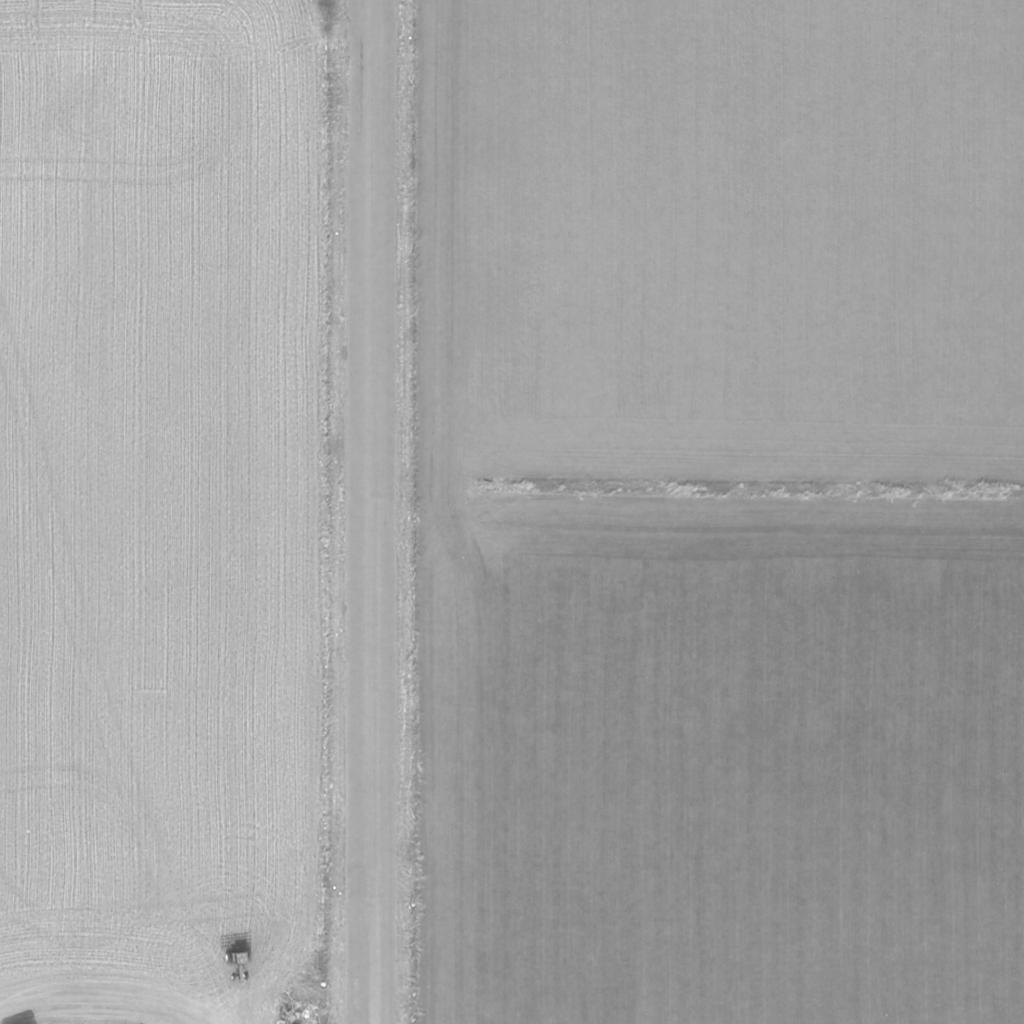vehicle: (223, 951, 253, 981)
